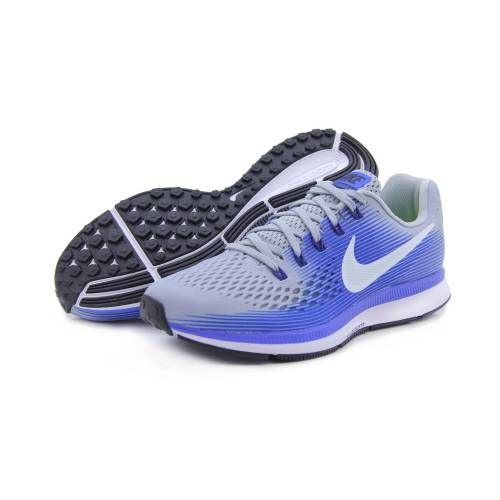nike: (337, 221, 439, 297)
